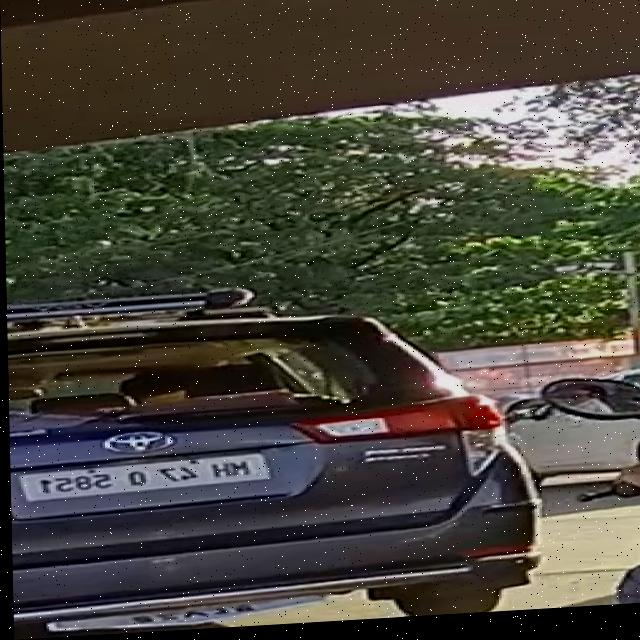plate: (15, 453, 274, 504)
